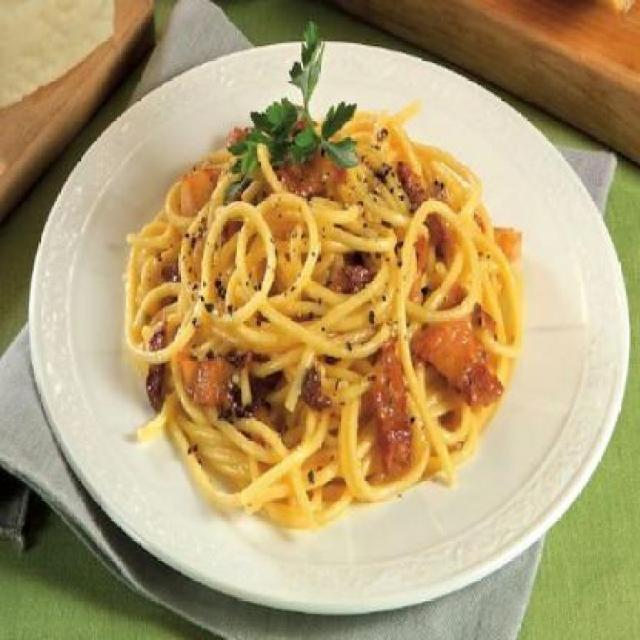Pasta with carbonara sauce: (107, 50, 570, 528)
